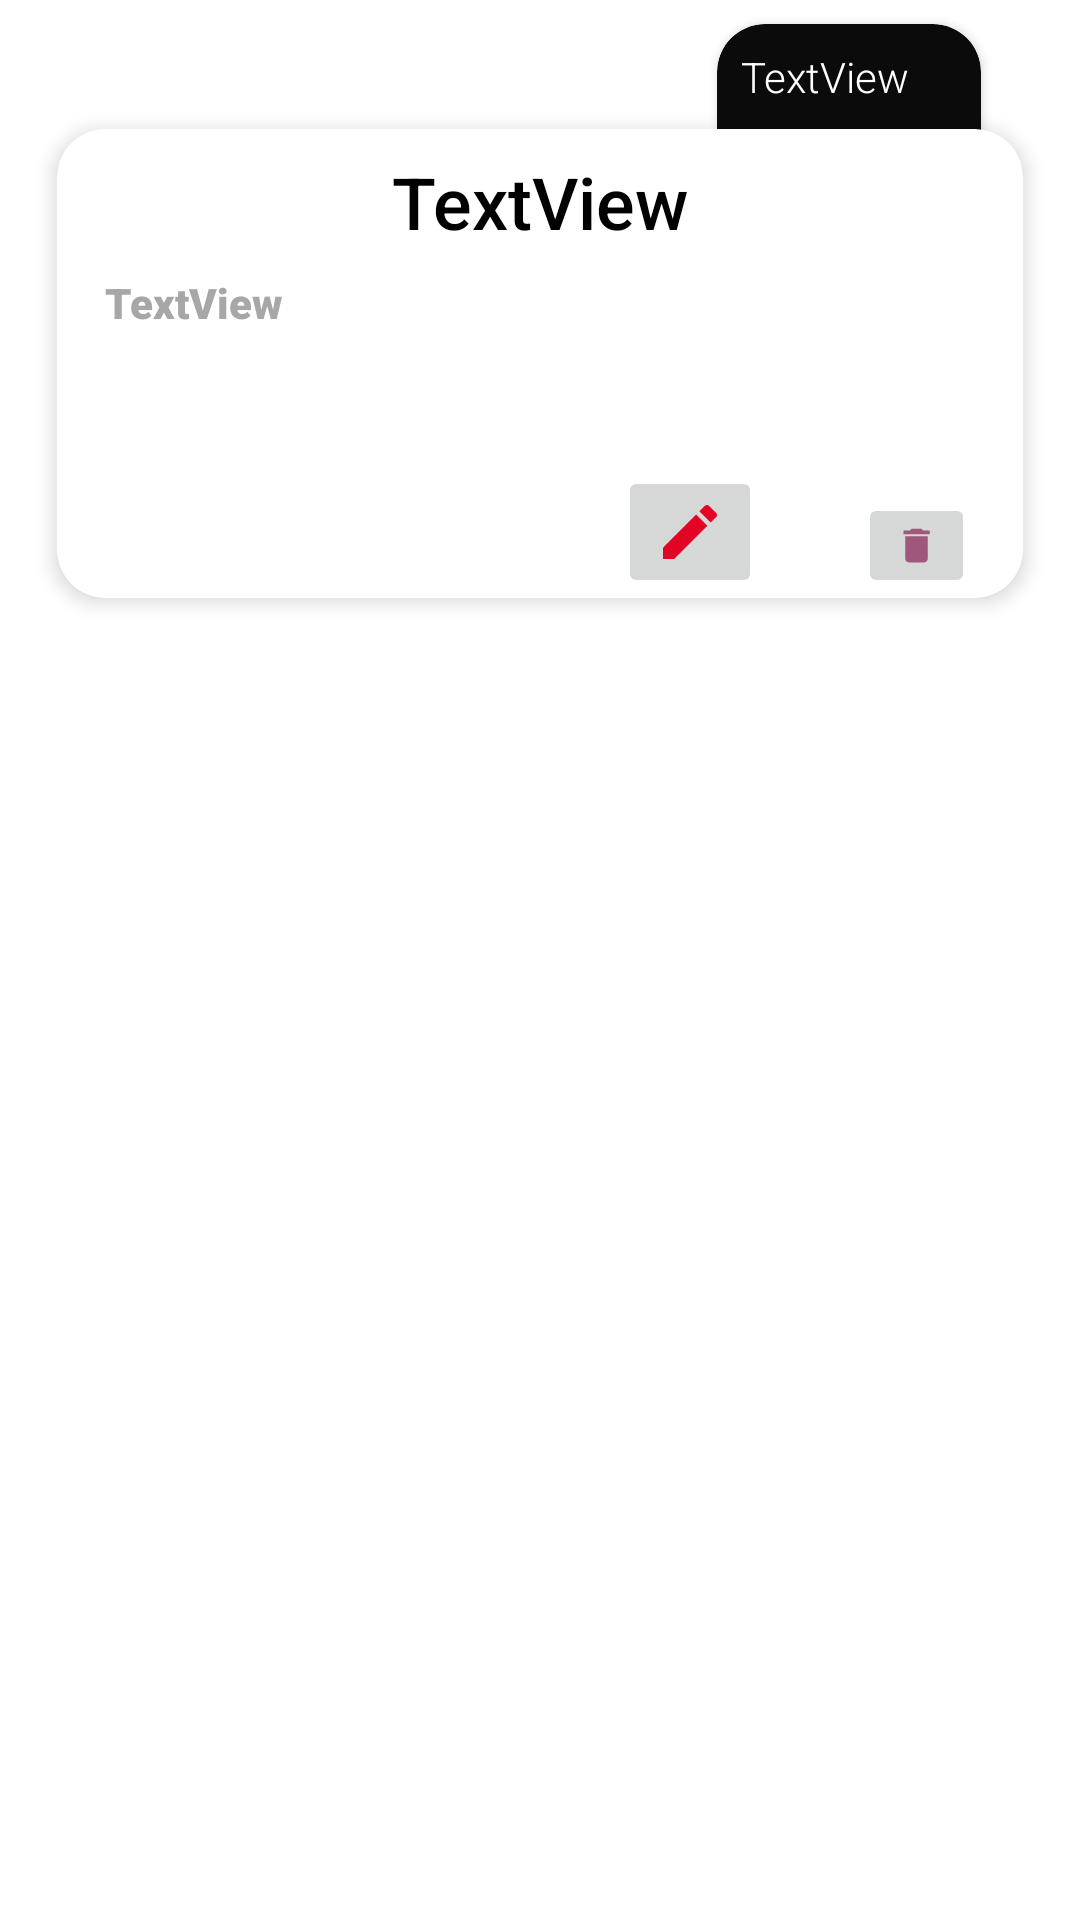

Named icons in this screenshot (1080px x 1920px) and their centers, (x=x, y=y):
delete two: (x=916, y=545)
edit one: (x=690, y=532)
